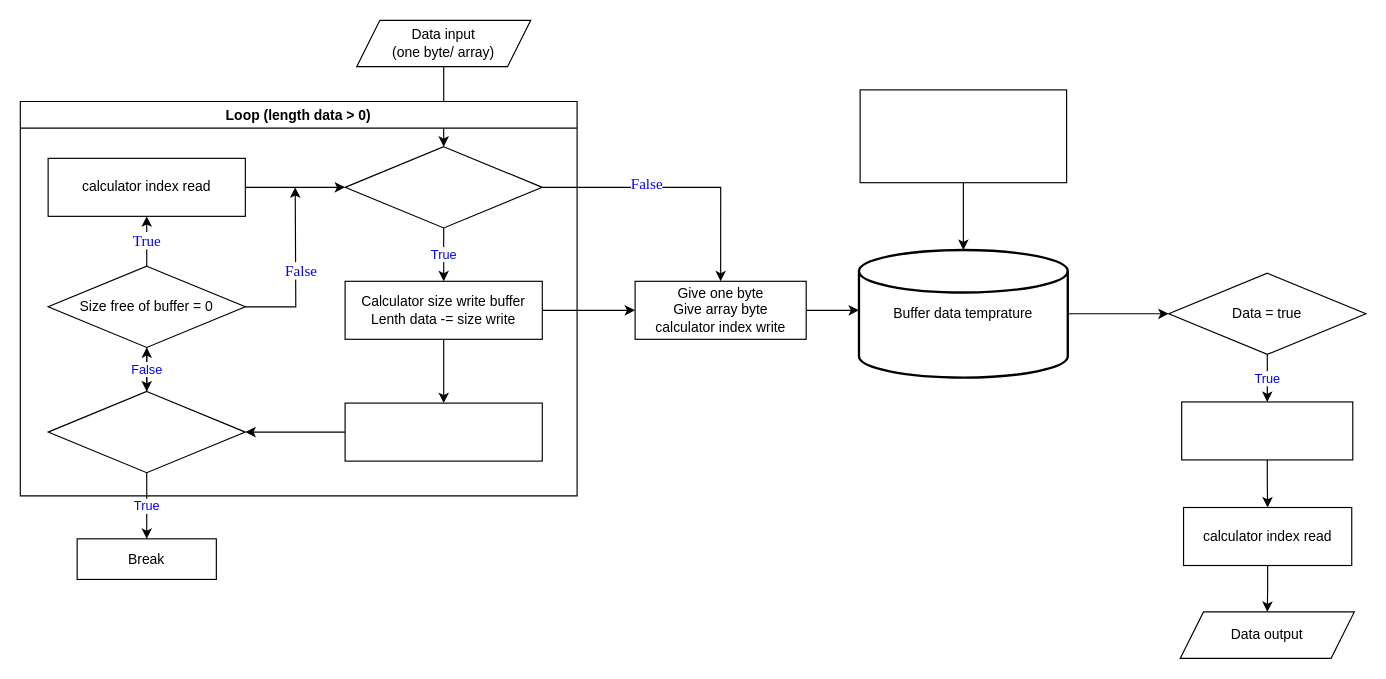
Image size: 1386x679. Some labels were removed from this diagram. The shapes that lost their labels are listed below. From the top down, each one's box as (x1, y1, x2, y2) in pixels, then its label:
(859, 89, 1067, 183): Init FIFO initi malloc RAM = size buffer Init function callback overload
(344, 146, 542, 228): Length data > size free of buffer
(47, 390, 245, 473): Length data = 0
(344, 402, 542, 461): Callback overload buffer
(1181, 401, 1353, 460): Read one byte Read array byte
